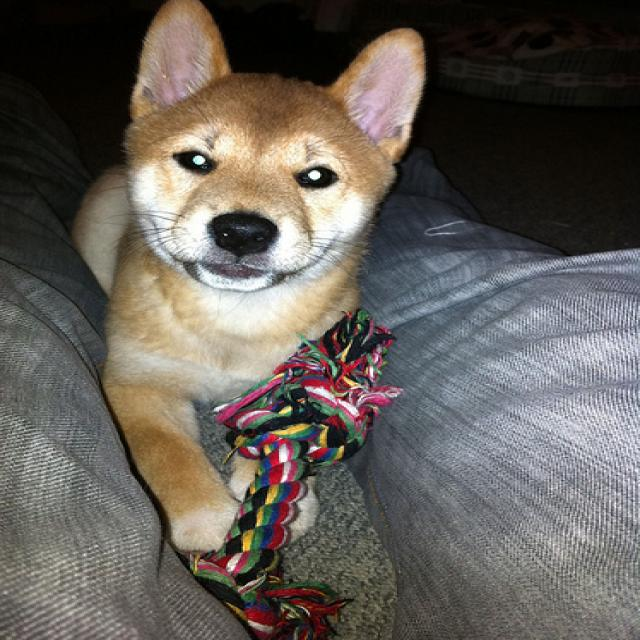dog-shiba_inu: (62, 1, 445, 564)
